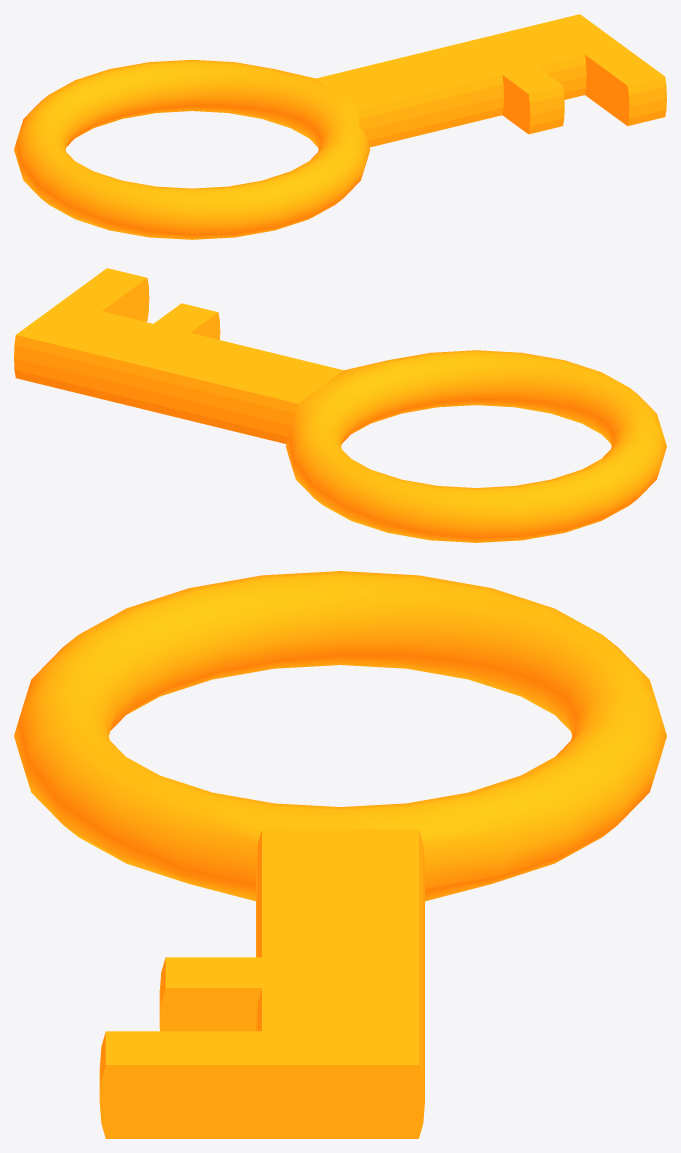
File: Key.FBX
3 renders of one model, top to bottom at view 1: azimuth 30°, elevation 25°; view 2: azimuth 150°, elevation 25°; view 3: azimuth 270°, elevation 25°, orthographic. The views are drawn at different scales.
Visible parts, largest first — view 1: Torus001; view 2: Torus001; view 3: Torus001.
Part boxes in pixels (box(x1,y1,x2,y2)): Torus001: box(14, 14, 666, 239); Torus001: box(14, 268, 666, 542); Torus001: box(14, 571, 666, 1138).
Size of the model in its own units: 107 by 8.44 by 58.41.
